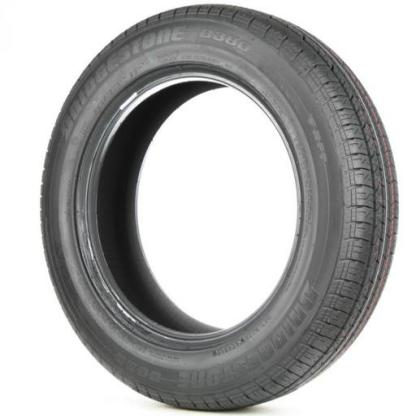Tire: (38, 2, 400, 413)
